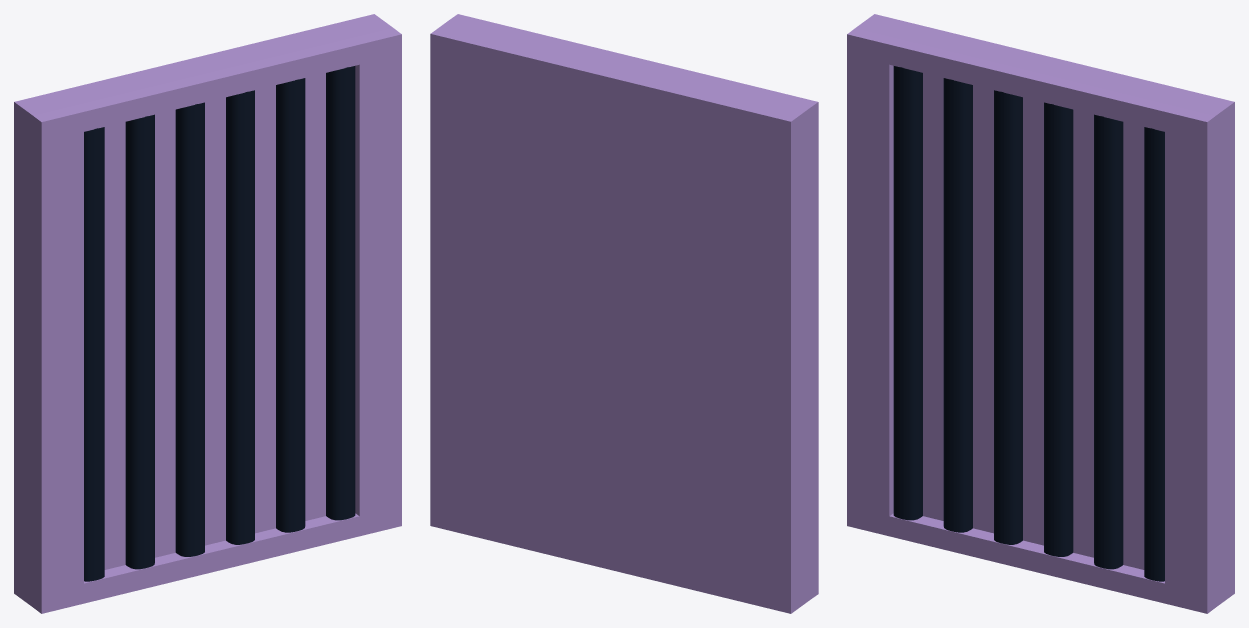
File: Elevatordoor.FBX
3 views of the same model, side by side, from view 1: azimuth 30°, elevation 25°; view 2: azimuth 150°, elevation 25°; view 3: azimuth 330°, elevation 25° (orthographic).
Parts seen in each view (by area): view 1: Elevatordoor; view 2: Elevatordoor; view 3: Elevatordoor.
Boxes of the visible parts, x1=… form: Elevatordoor: x1=14, y1=14, x2=401, y2=613; Elevatordoor: x1=430, y1=14, x2=818, y2=613; Elevatordoor: x1=847, y1=14, x2=1234, y2=613.
Bounding box in the file's own units: 2.49 × 3.25 × 0.3283.
